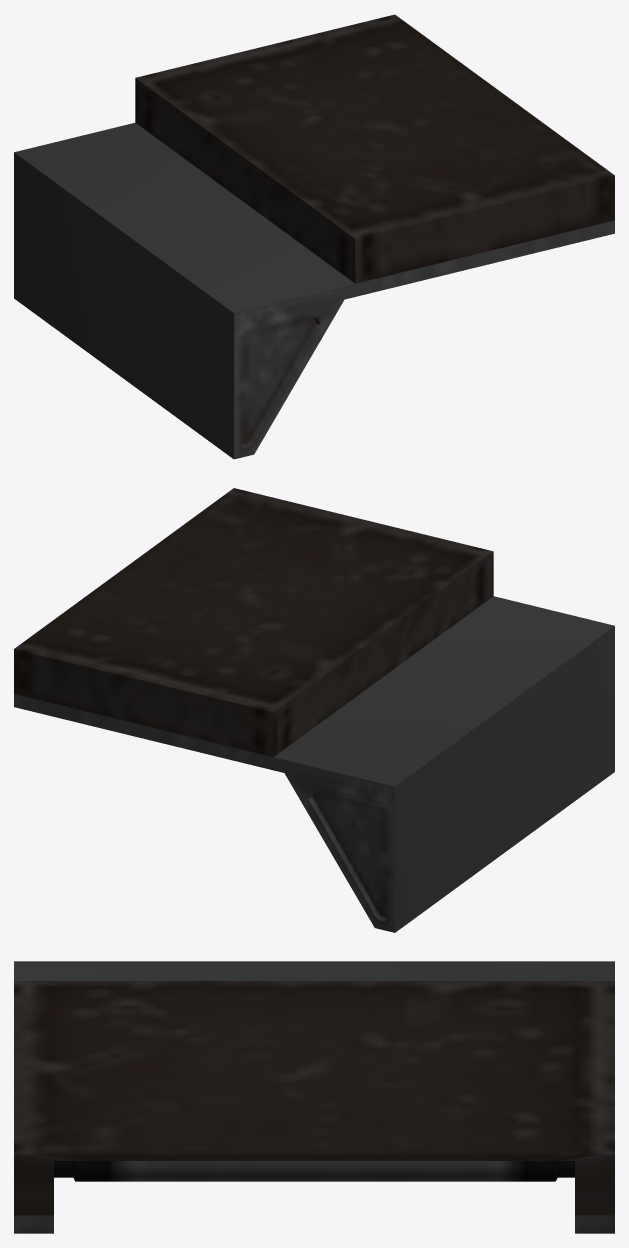
File: Ceiling_06.FBX
3 views of the same model, one above another, from view 1: azimuth 30°, elevation 25°; view 2: azimuth 150°, elevation 25°; view 3: azimuth 270°, elevation 25° (orthographic). The views are drawn at different scales.
Visible parts, largest first — view 1: Ceiling_06; view 2: Ceiling_06; view 3: Ceiling_06.
Boxes of the visible parts, left/top/right/bottom form: Ceiling_06: left=14, top=14, right=614, bottom=459; Ceiling_06: left=14, top=488, right=614, bottom=932; Ceiling_06: left=14, top=961, right=614, bottom=1233.
Bounding box in the file's own units: 300 × 144 × 300.
